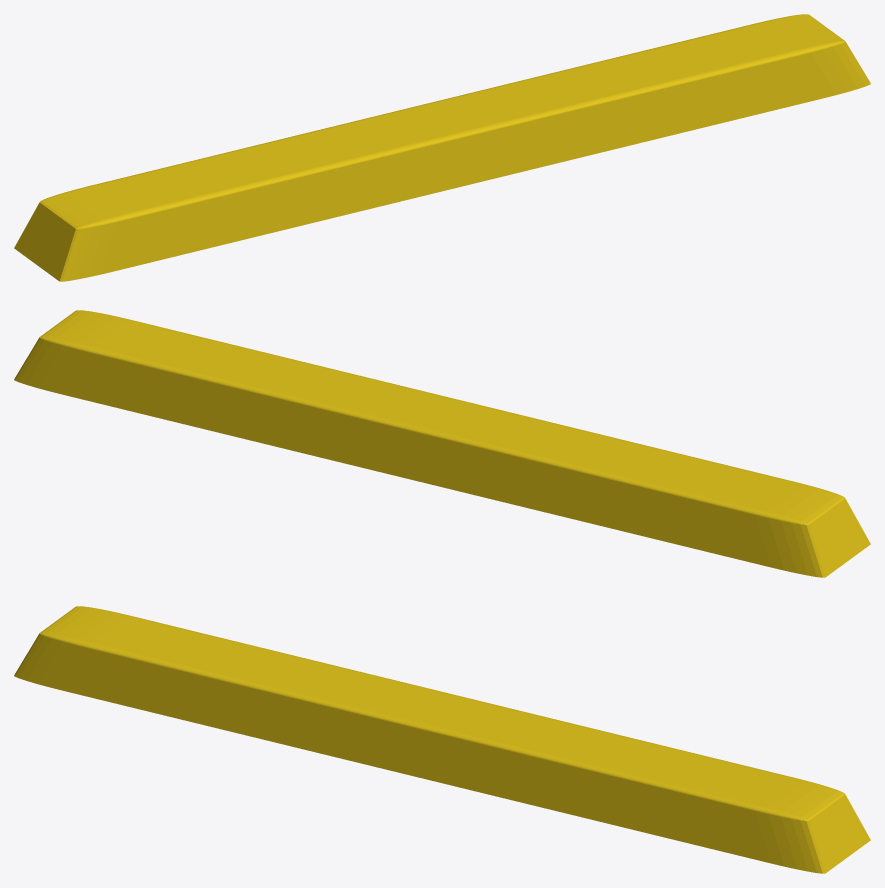
File: parking_bumper.fbx
The picture shows the model from 3 angles, top to bottom: view 1: azimuth 30°, elevation 25°; view 2: azimuth 150°, elevation 25°; view 3: azimuth 330°, elevation 25°; orthographic projection.
Parts seen in each view (by area): view 1: Cube; view 2: Cube; view 3: Cube.
Part boxes in pixels (x1,y1,x2,y2): Cube: (14, 14, 870, 281); Cube: (14, 310, 870, 577); Cube: (14, 606, 870, 873).
Size of the model in its own units: 360 by 20 by 40.
1 material, 1 textured.
